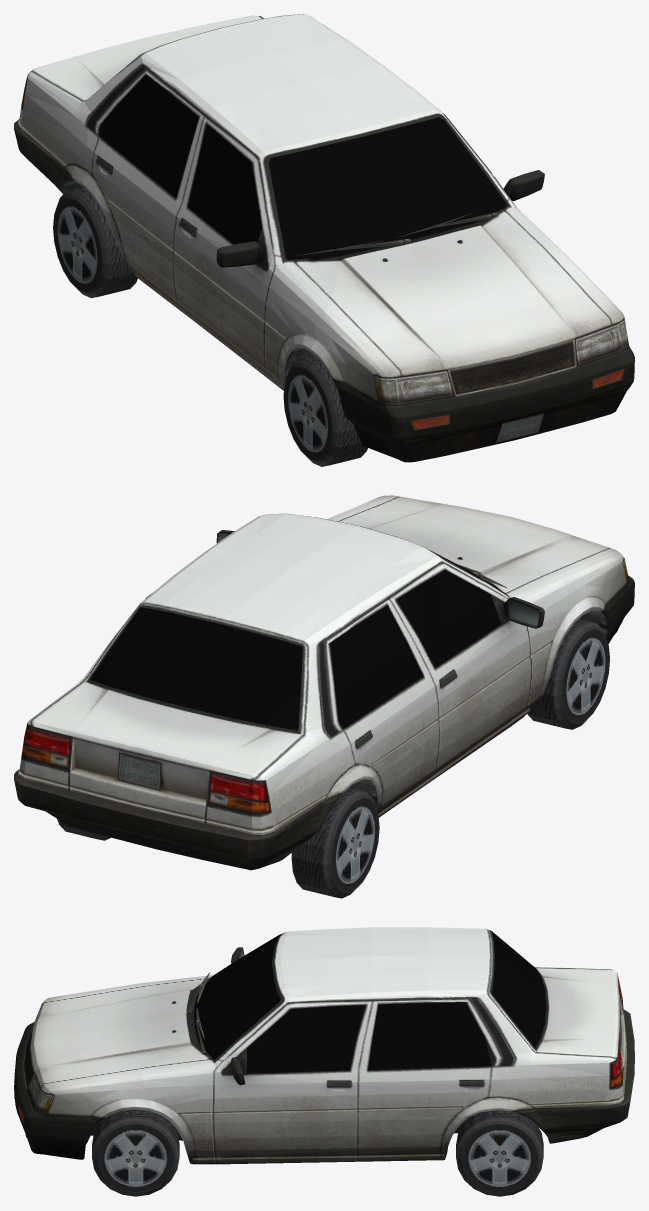
File: car_saloon_old.gltf
3 views of the same model, one above another, from view 1: azimuth 30°, elevation 25°; view 2: azimuth 150°, elevation 25°; view 3: azimuth 270°, elevation 25° (orthographic). The views are drawn at different scales.
Parts seen in each view (by area): view 1: car_saloon_old; view 2: car_saloon_old; view 3: car_saloon_old.
Part boxes in pixels (bbox=[...]): car_saloon_old: bbox=[14, 14, 634, 466]; car_saloon_old: bbox=[14, 495, 634, 898]; car_saloon_old: bbox=[14, 927, 634, 1196].
Size of the model in its own units: 2.06 by 1.45 by 4.3.
1 material, 1 textured.
